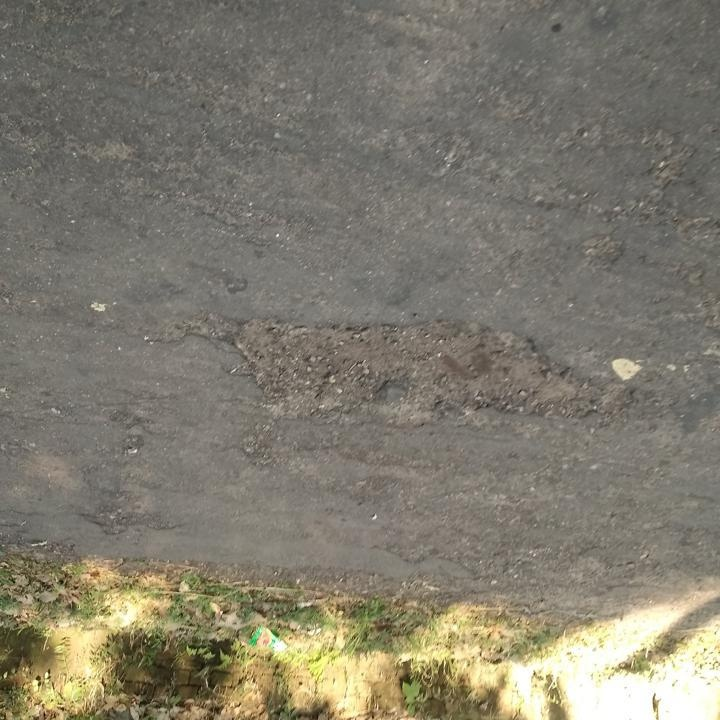pothole: (223, 308, 637, 430), (81, 510, 179, 538)
